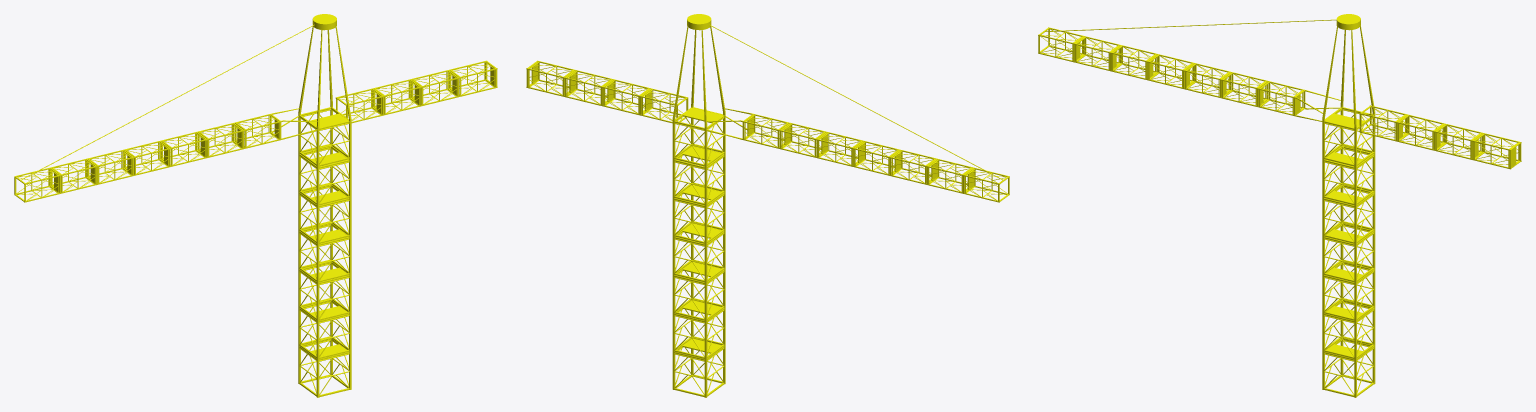
File: Crane.fbx
3 renders of one model, left to right at view 1: azimuth 30°, elevation 25°; view 2: azimuth 150°, elevation 25°; view 3: azimuth 330°, elevation 25°, orthographic.
Parts seen in each view (by area): view 1: Crane; view 2: Crane; view 3: Crane.
Boxes of the visible parts, x1,y1,x2,y2 form: Crane: (14,14,497,397); Crane: (526,14,1009,397); Crane: (1038,14,1521,397).
Bounding box in the file's own units: 1771 × 1314 × 126.
